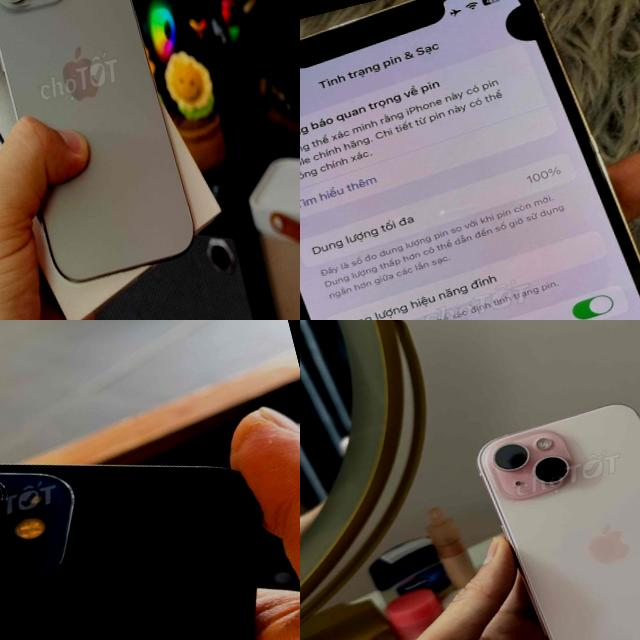gen_12_13: (300, 0, 640, 320), (0, 388, 300, 640)
gen_15: (0, 0, 210, 305), (461, 367, 640, 640)
